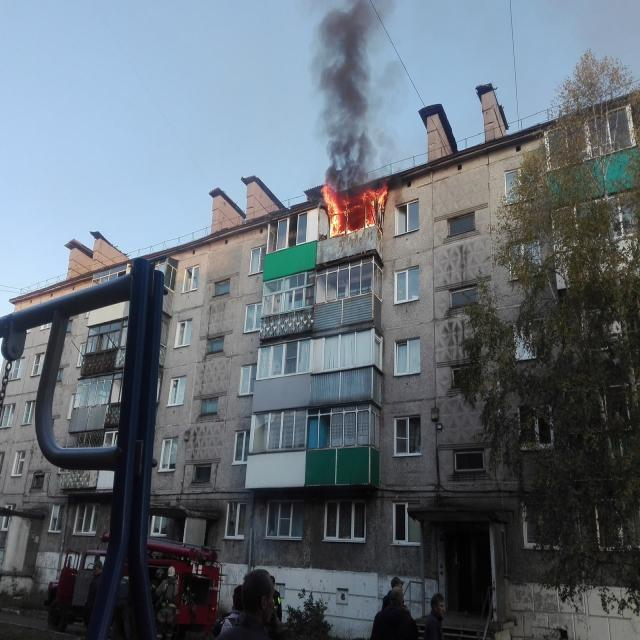Fire: (321, 185, 385, 238)
Smoke: (304, 0, 404, 187)
